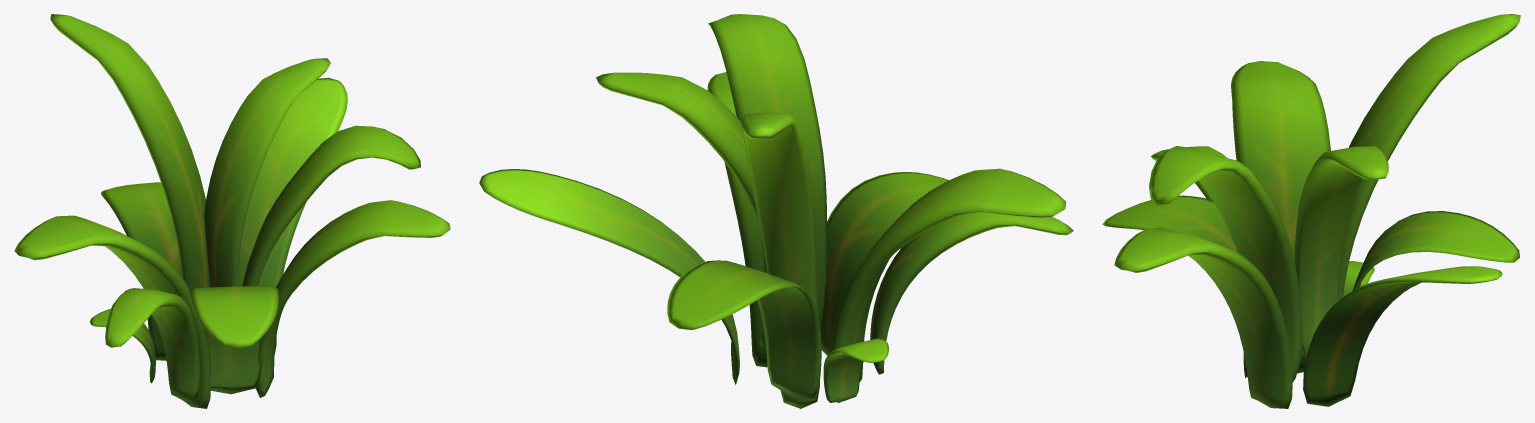
File: Grass_Rounded01.fbx
3 renders of one model, left to right at view 1: azimuth 30°, elevation 25°; view 2: azimuth 150°, elevation 25°; view 3: azimuth 270°, elevation 25°, orthographic. The views are drawn at different scales.
Parts seen in each view (by area): view 1: Grass_Rounded01_L.015; view 2: Grass_Rounded01_L.015; view 3: Grass_Rounded01_L.015.
Boxes of the visible parts, <box> form: Grass_Rounded01_L.015: <box>14,14,450,408</box>; Grass_Rounded01_L.015: <box>479,14,1073,408</box>; Grass_Rounded01_L.015: <box>1102,14,1520,408</box>.
Bounding box in the file's own units: 104 × 76.39 × 83.64.
Materials: 1 (1 with a texture image).
